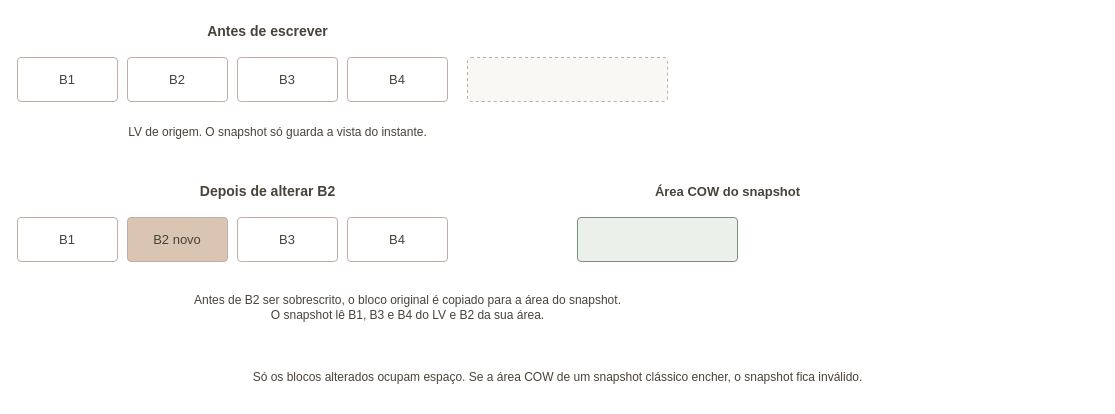
Some shapes in this 1115 by 414 pixel diagram are drawn without their labels. Each missing label, with the centre of its shape:
"B2 original" goes at [657,239].
"snapshot criado" goes at [567,79].
